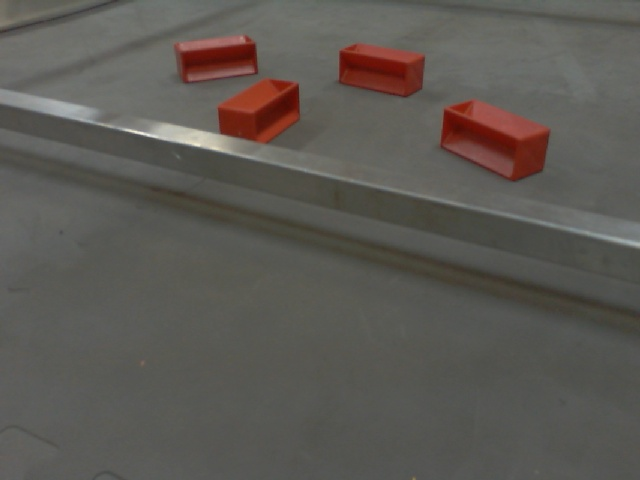RedSample: (441, 97, 550, 184), (217, 75, 304, 145), (339, 41, 426, 100), (170, 30, 260, 81)
